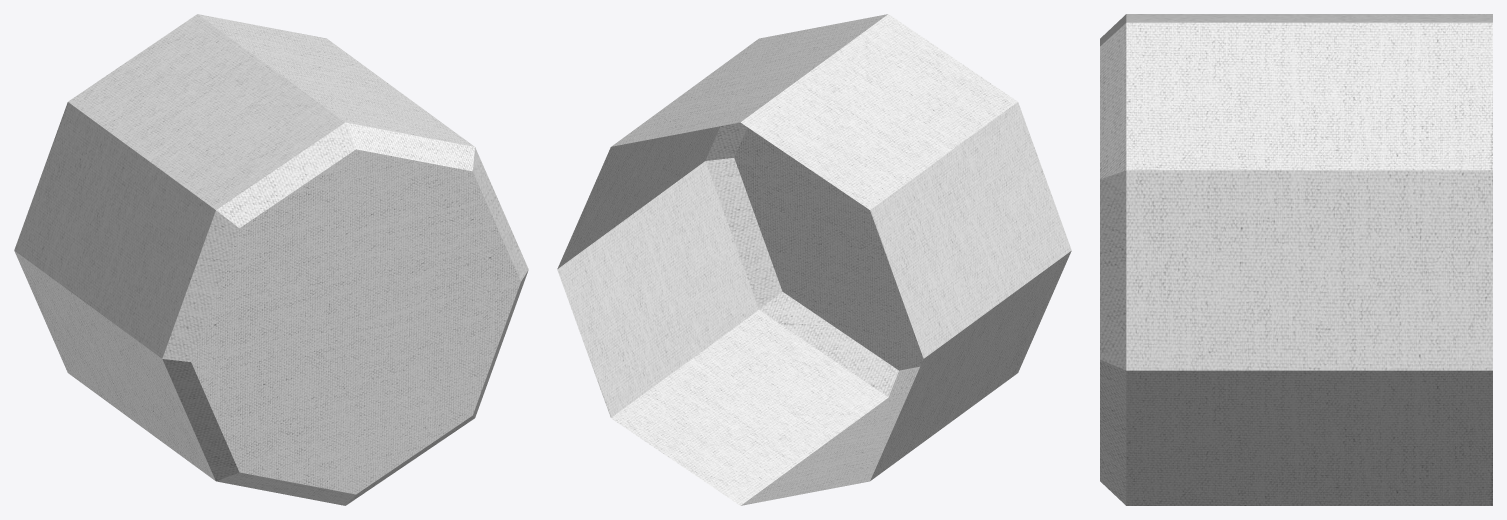
The picture shows the model from 3 angles, left to right: view 1: azimuth 30°, elevation 25°; view 2: azimuth 150°, elevation 25°; view 3: azimuth 270°, elevation 25°; orthographic projection. The views are drawn at different scales.
Visible parts, largest first — view 1: Cylinder002; view 2: Cylinder002; view 3: Cylinder002.
Part boxes in pixels (left/top/right/bottom): Cylinder002: left=14, top=14, right=528, bottom=505; Cylinder002: left=557, top=14, right=1071, bottom=505; Cylinder002: left=1100, top=14, right=1492, bottom=505.
Size of the model in its own units: 0.4 by 0.4 by 0.3.
1 material, 1 textured.
